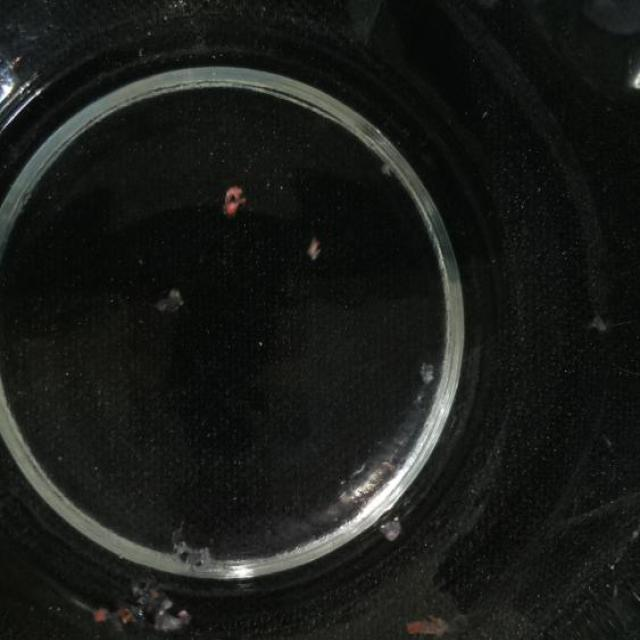fiber: (64, 579, 198, 640), (168, 534, 255, 584), (153, 285, 191, 315), (408, 616, 455, 640), (376, 517, 414, 546), (218, 183, 246, 215), (585, 313, 615, 335), (419, 355, 438, 384), (308, 239, 320, 263)
